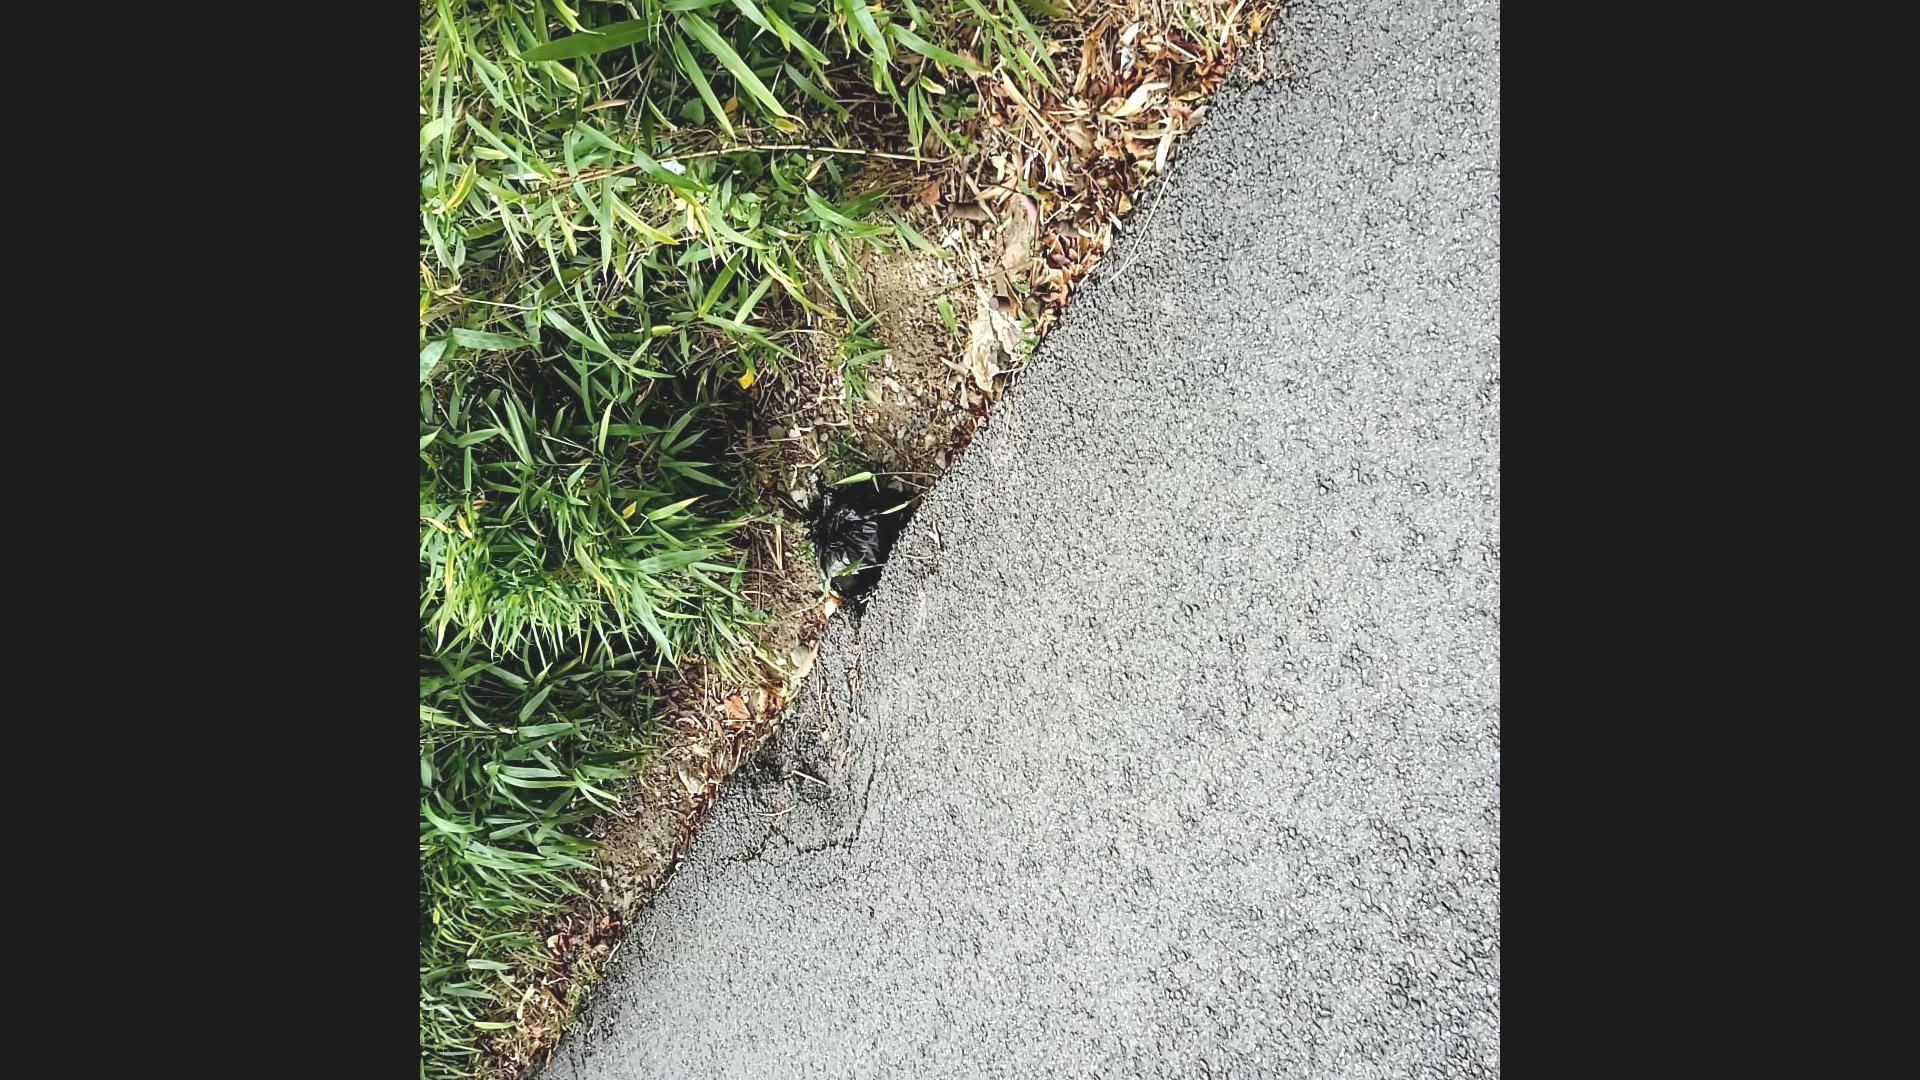black_bag: (765, 476, 915, 603)
